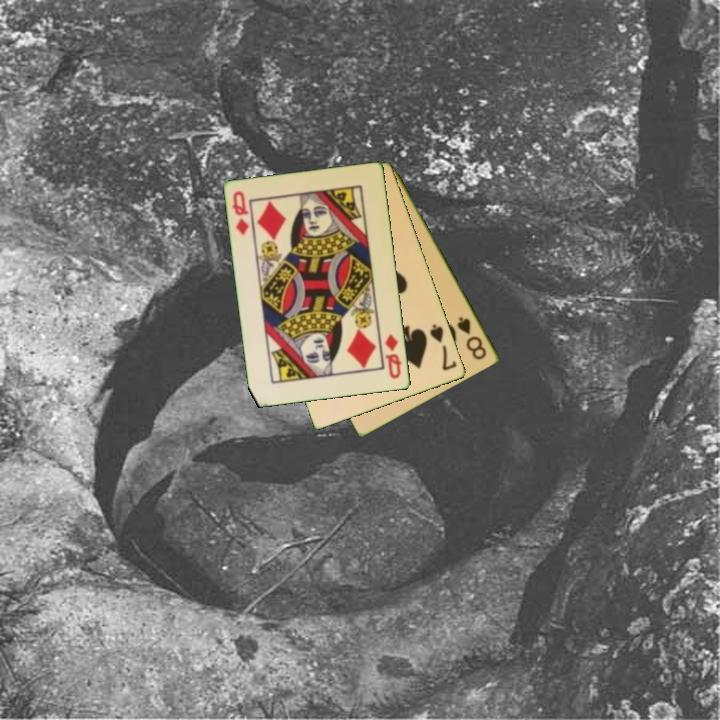7s: (427, 321, 460, 374)
8s: (454, 313, 490, 363)
Qd: (381, 331, 405, 382), (229, 188, 252, 238)
